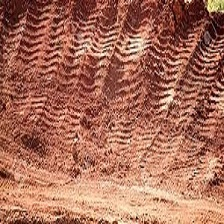clay_soil: (9, 30, 219, 188)
